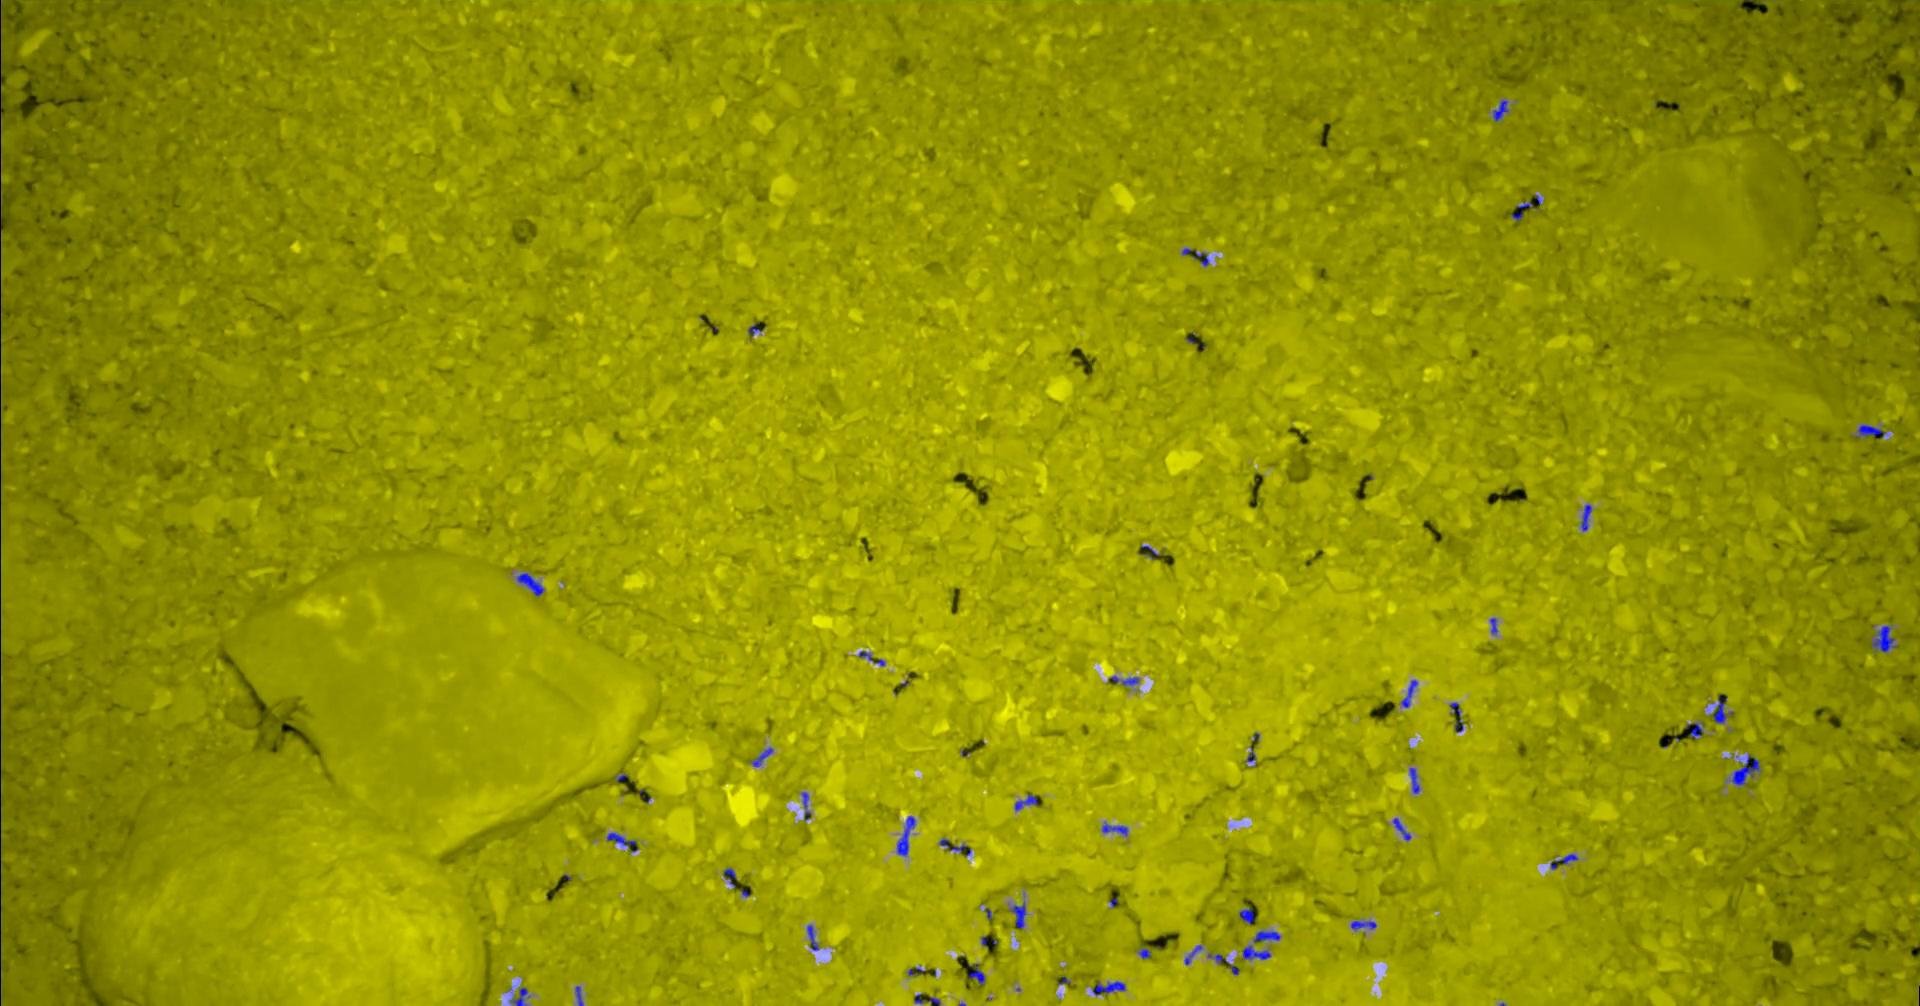ant: (1730, 754, 1759, 785), (897, 815, 916, 855), (1870, 625, 1895, 652), (516, 572, 543, 594), (1712, 694, 1733, 723), (938, 838, 970, 855), (1181, 246, 1208, 265), (606, 832, 636, 848), (1399, 680, 1417, 708), (1092, 981, 1125, 995), (1241, 944, 1270, 959), (750, 747, 772, 766), (1015, 793, 1037, 810), (1392, 817, 1410, 840), (1550, 854, 1577, 869), (1010, 902, 1025, 929), (1511, 201, 1531, 220), (858, 650, 884, 666), (1183, 944, 1203, 964), (1857, 424, 1886, 437), (1449, 702, 1462, 732), (968, 964, 984, 984), (1492, 99, 1507, 121), (1253, 930, 1279, 942), (509, 987, 527, 1005), (1684, 721, 1703, 738), (1580, 504, 1591, 531), (1101, 823, 1128, 835), (806, 923, 818, 950), (913, 993, 940, 1005), (1109, 674, 1138, 685), (723, 868, 737, 887), (1408, 767, 1418, 793), (801, 791, 810, 819), (1350, 920, 1377, 929), (1239, 908, 1255, 923)
